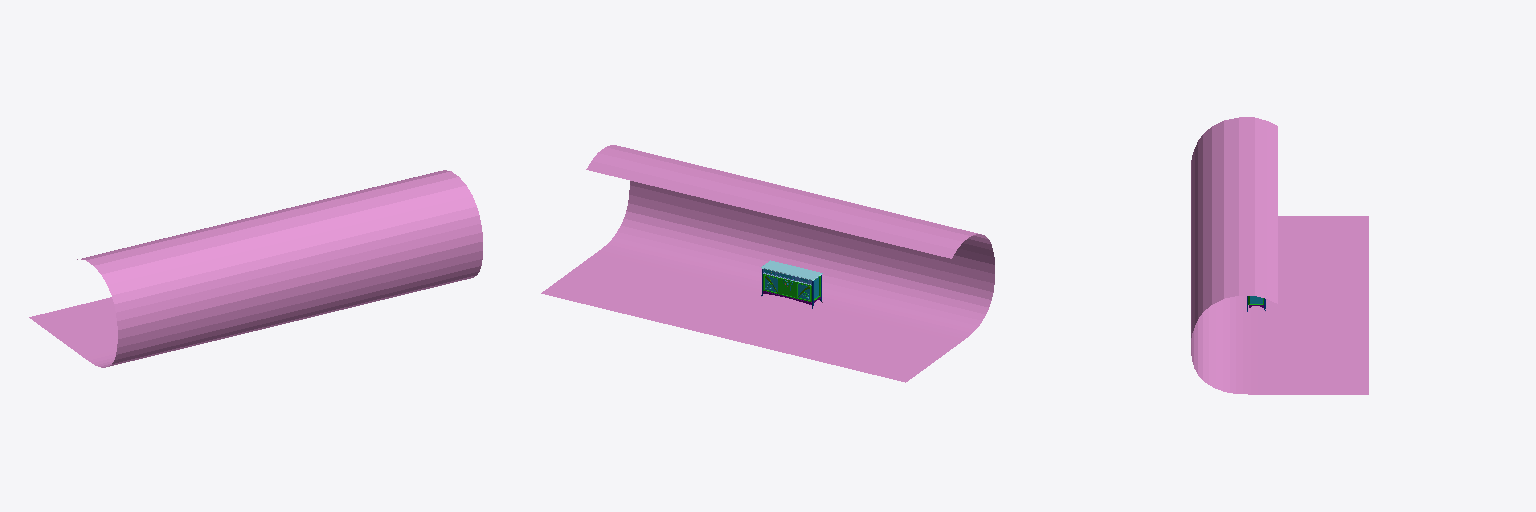
Rendered from medea.obj.
3 renders of one model, left to right at view 1: azimuth 30°, elevation 25°; view 2: azimuth 150°, elevation 25°; view 3: azimuth 270°, elevation 25°, orthographic.
Visible parts, largest first — view 1: sd; view 2: sd, ChamferBox01; view 3: sd.
Part boxes in pixels (x1,y1,x2,y2): sd: (29,170,482,367); sd: (541,145,994,382); ChamferBox01: (761,260,822,280); sd: (1191,117,1368,394).
Size of the model in its own units: 1481 by 383 by 626.